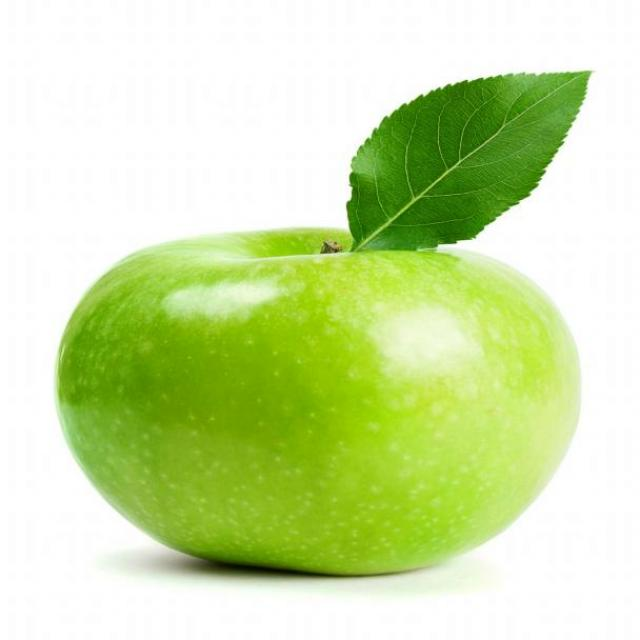HEALTHY: (26, 180, 614, 604)
